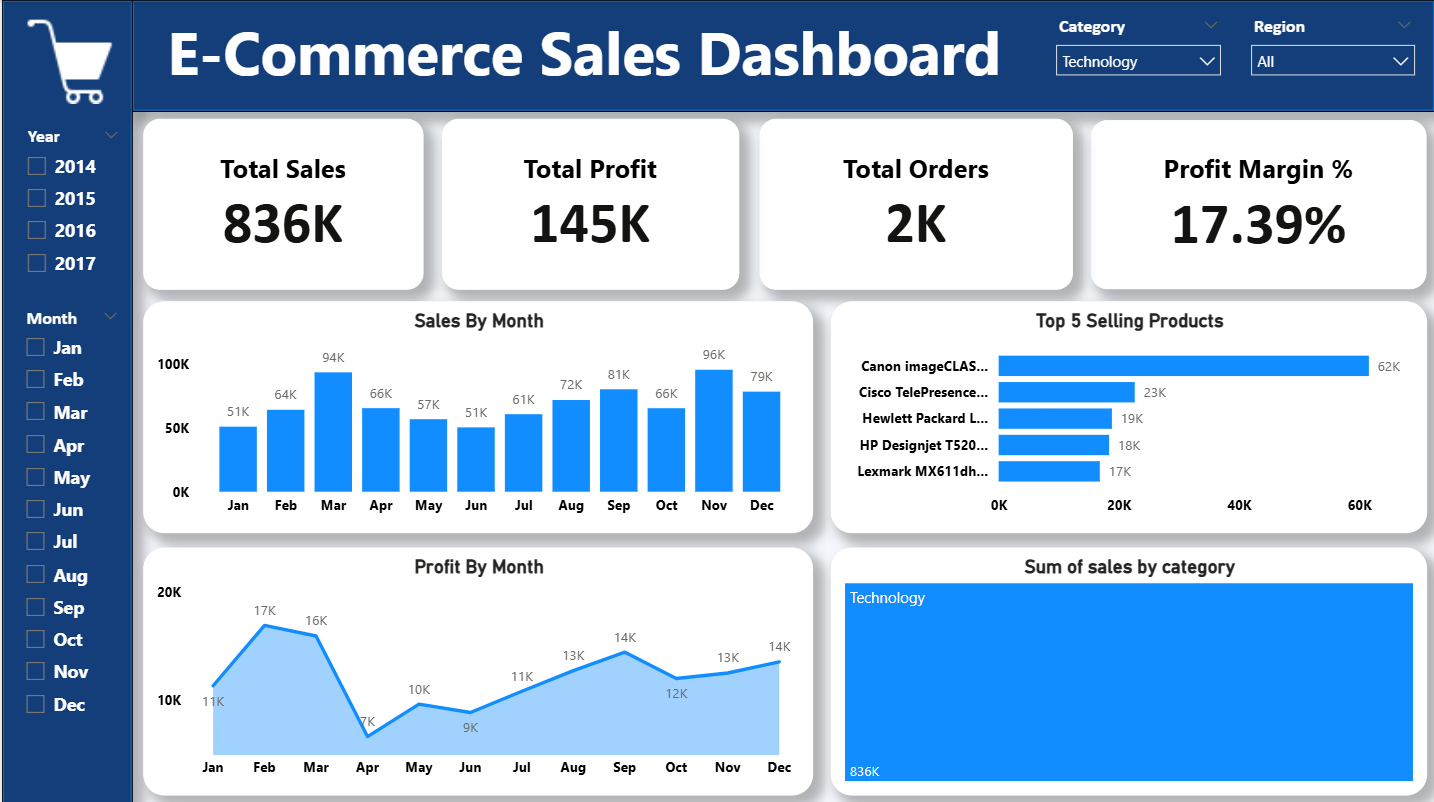

The page's visual inventory and layout, read from the dashboard file:
{"tool":"powerbi","page":{"name":"Page 1","canvas":[1280,720],"ordinal":0},"visuals":[{"type":"shape","box":[0,0,117.1,720],"z":0},{"type":"image","box":[147.1,21.4,84.3,77.1],"z":1000},{"type":"shape","box":[115.7,0,1164.3,100],"z":2000},{"type":"slicer","fields":{"Values":["cleaned_dataset.Year"]},"box":[10,106.7,106.7,153.3],"z":3000},{"type":"textbox","box":[117.1,4.3,805.7,91.4],"z":4000},{"type":"slicer","fields":{"Values":["cleaned_dataset.Month"]},"box":[8.6,268.6,107.1,444.3],"z":5000},{"type":"slicer","fields":{"Values":["cleaned_dataset.category"]},"box":[931.4,8.6,167.9,90.7],"z":6000},{"type":"slicer","fields":{"Values":["cleaned_dataset.region"]},"box":[1105.7,8.6,166.4,90.7],"z":7000},{"type":"cardVisual","fields":{"Data":["cleaned_dataset.Total Sales"]},"box":[125.7,105.7,250,152.9],"z":8000},{"type":"cardVisual","fields":{"Data":["cleaned_dataset.Profit Margin %"]},"box":[972.9,107.1,300,151.4],"z":9000},{"type":"cardVisual","fields":{"Data":["cleaned_dataset.Total Orders"]},"box":[677.1,105.7,280,152.9],"z":10000},{"type":"cardVisual","fields":{"Data":["cleaned_dataset.Total Profit"]},"box":[392.9,105.7,265.7,152.9],"z":11000},{"type":"columnChart","title":"Sales By Month","fields":{"Y":["Sum(cleaned_dataset.sales)"],"Category":["cleaned_dataset.Month"]},"box":[125.7,268.6,598.6,207.1],"z":12000},{"type":"areaChart","title":"Profit By Month","fields":{"Category":["cleaned_dataset.Month"],"Y":["Sum(cleaned_dataset.profit)"]},"box":[125.7,488.6,598.6,221.4],"z":13000},{"type":"clusteredBarChart","title":"Top 5 Selling Products","fields":{"Category":["cleaned_dataset.product_name"],"Y":["Sum(cleaned_dataset.sales)"]},"box":[740,268.6,532.9,207.1],"z":14000},{"type":"treemap","fields":{"Group":["cleaned_dataset.category"],"Values":["Sum(cleaned_dataset.sales)"]},"box":[740,488.6,532.9,221.4],"z":15000},{"type":"image","box":[15.7,14.3,92.9,78.6],"z":16000}]}

Visuals, with their boxes in screenshot pixels (x1, y1, x2, y2), scaled from the page's 1280x720 canvas onto the 1434x802 screenshot:
shape: 0,0,131,801
image: 165,24,259,110
shape: 130,0,1433,111
slicer - cleaned_dataset.Year: 11,119,131,290
textbox: 131,5,1034,107
slicer - cleaned_dataset.Month: 10,299,130,794
slicer - cleaned_dataset.category: 1043,10,1232,111
slicer - cleaned_dataset.region: 1239,10,1425,111
cardVisual - cleaned_dataset.Total Sales: 141,118,421,288
cardVisual - cleaned_dataset.Profit Margin %: 1090,119,1426,288
cardVisual - cleaned_dataset.Total Orders: 759,118,1072,288
cardVisual - cleaned_dataset.Total Profit: 440,118,738,288
"Sales By Month" columnChart: 141,299,811,530
"Profit By Month" areaChart: 141,544,811,791
"Top 5 Selling Products" clusteredBarChart: 829,299,1426,530
treemap - cleaned_dataset.category x Sum(cleaned_dataset.sales): 829,544,1426,791
image: 18,16,122,103
